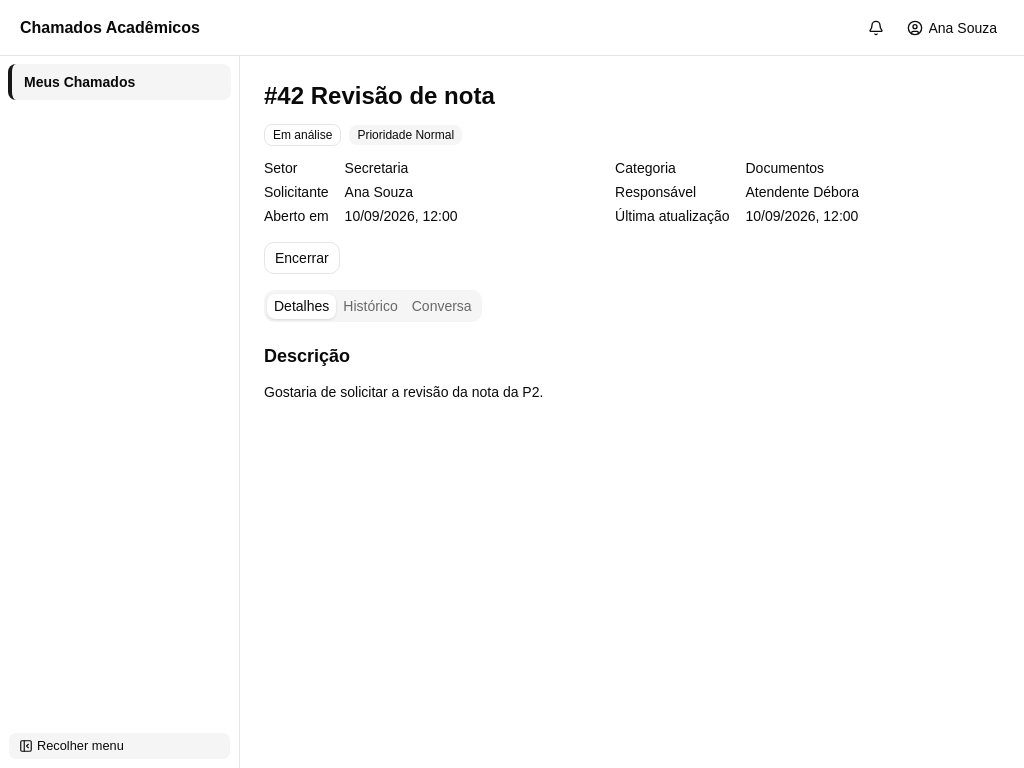
Test: MessageComposer (Tela 5, BR2.1, BR5.2, BR5.3, BR5.7) › shows the translated refusal of a reader who may not write (BR1.3, CT11)
Click the tab with test id "ticket-tabs-conversation-tab": [442, 306] box top-left (405, 294), bottom-right (479, 318)
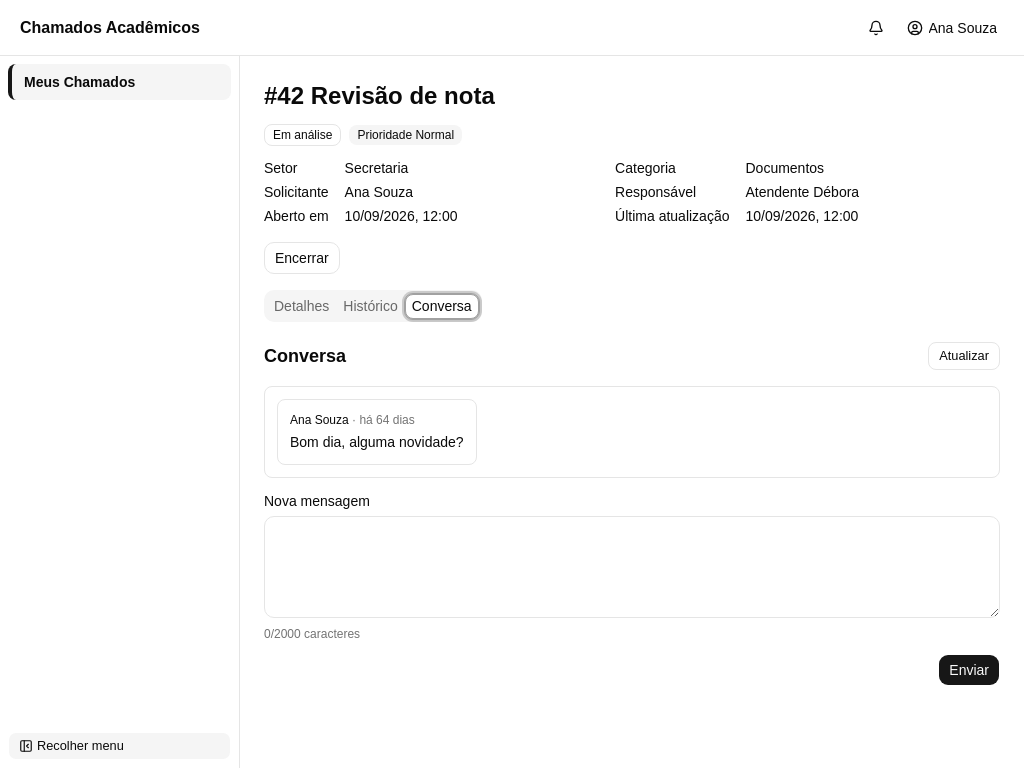
Expected: the form with test id "message-composer" is shown, top-left (264, 494), bottom-right (1000, 686)
In the text box with test id "message-composer-body-input": [632, 567] box top-left (264, 516), bottom-right (1000, 618), type "Posso responder?"
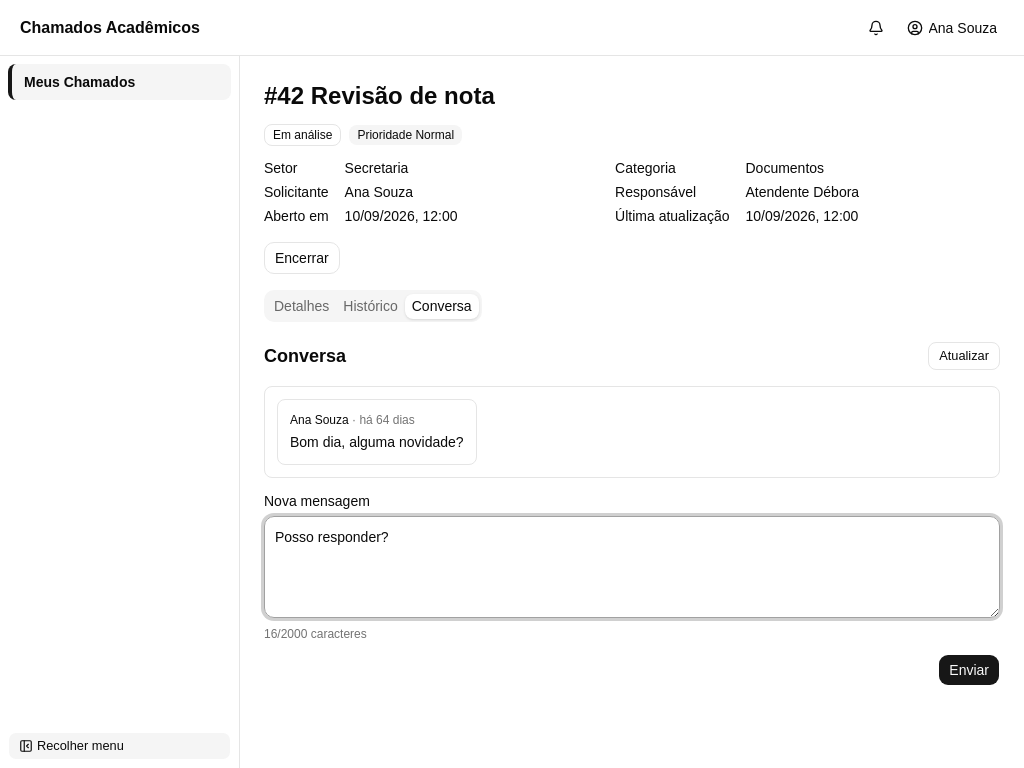
Click the button with test id "message-composer-submit-button": [969, 670] box top-left (938, 654), bottom-right (1000, 686)
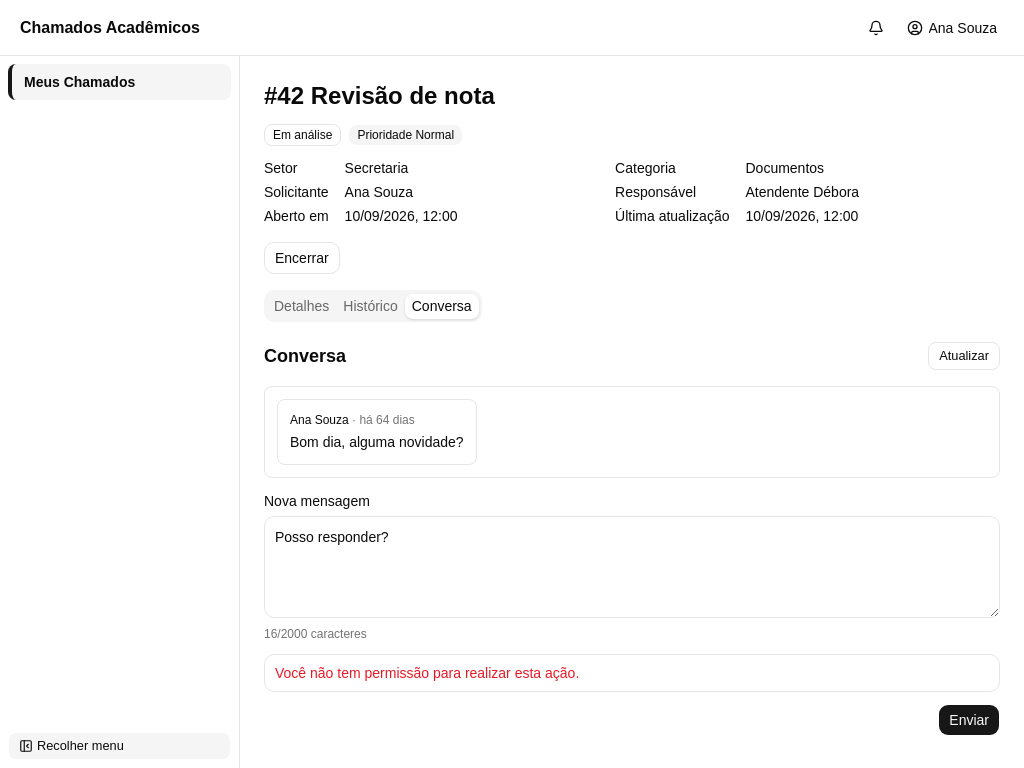
Expected: the message with test id "message-composer-error-alert" reads "Você não tem permissão para realizar esta ação.", top-left (275, 665), bottom-right (579, 681)
